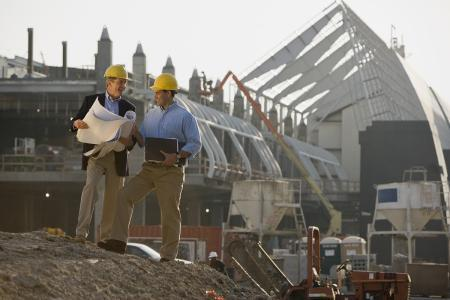helmet: (149, 68, 182, 109), (101, 60, 132, 99)
